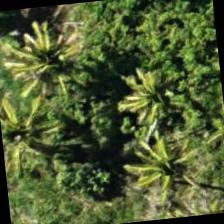Kelapa_Sawit: (114, 122, 213, 222), (102, 55, 201, 154), (0, 12, 98, 112), (0, 86, 67, 183)
